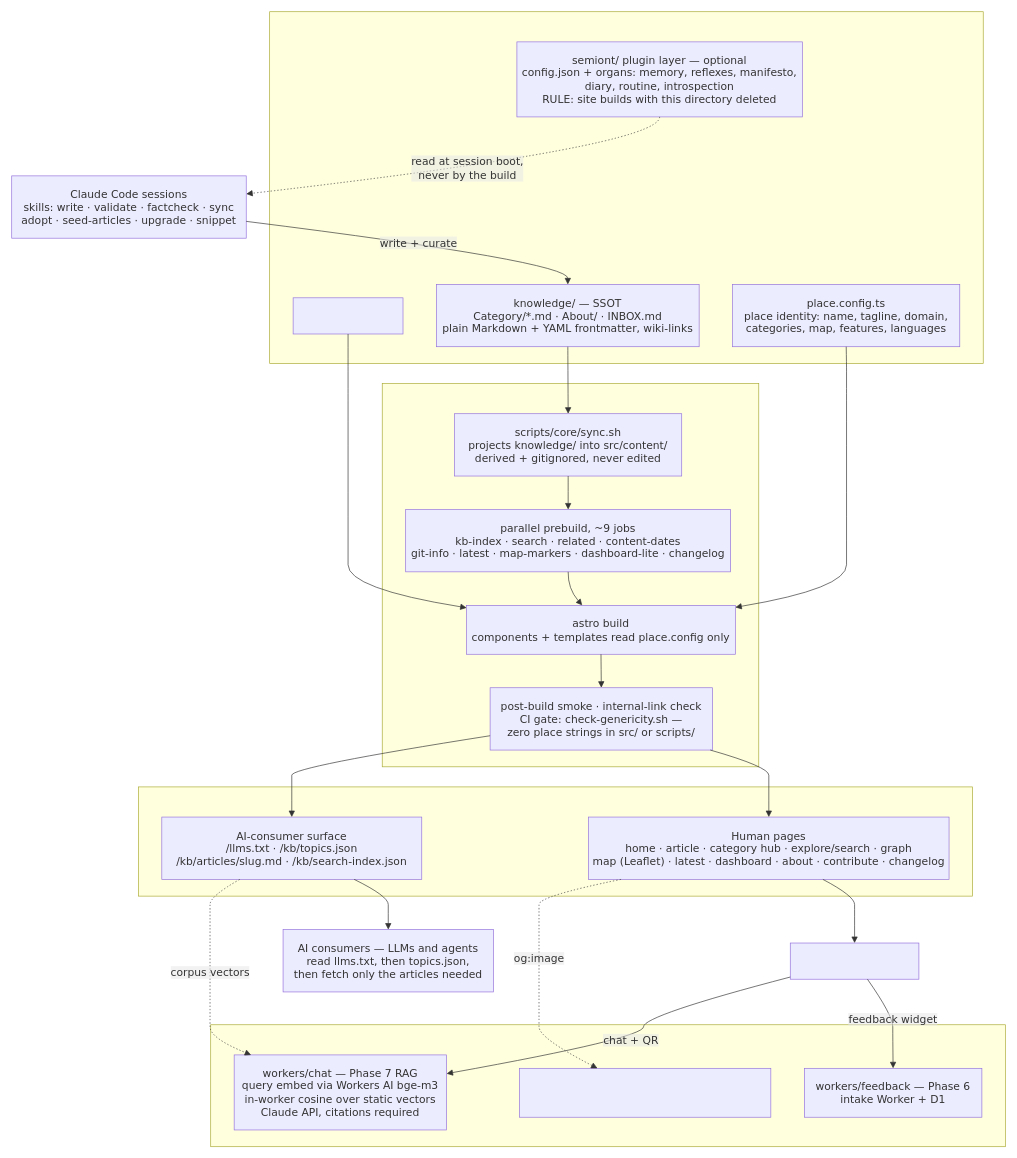
Image size: 1017x1158. Some labels were removed from this diagram. The box of each missing label's shape, as (x1, y1, x2, y2) in pixels:
Build pipeline — target under 60s at 50 articles: (382, 383, 759, 767)
Cloudflare Workers — free tier: (210, 1024, 1005, 1147)
Instance repo — lagunabeach-md (same shape as the sekai-kb template): (269, 11, 983, 363)
public/media/: (292, 297, 403, 334)
Readers — humans: (790, 942, 919, 979)
Static site — GitHub Pages + Cloudflare DNS/CDN: (138, 786, 973, 896)
workers/og — Phase 7 on-demand OG images, Satori + resvg-wasm: (519, 1068, 771, 1117)
